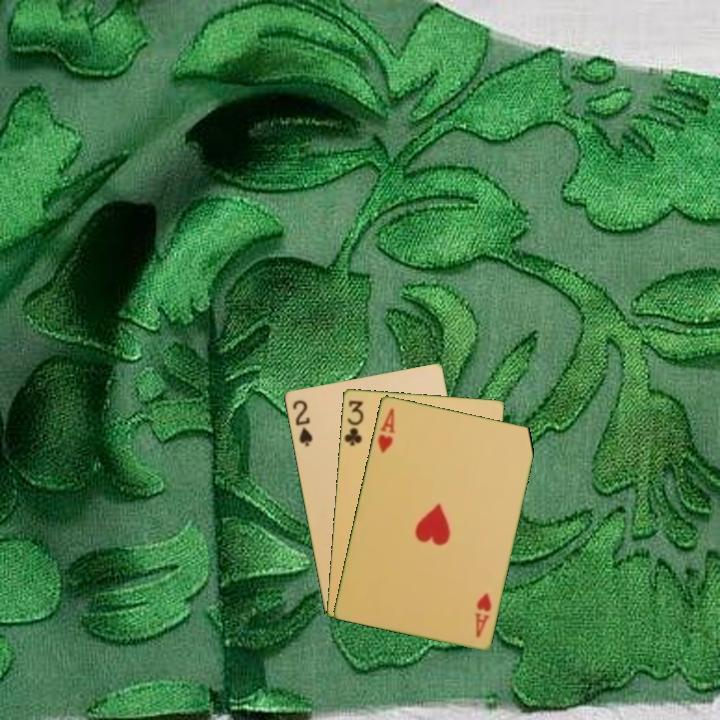2s: (289, 396, 315, 449)
3c: (341, 396, 366, 449)
Ah: (374, 404, 398, 456), (471, 589, 494, 640)
